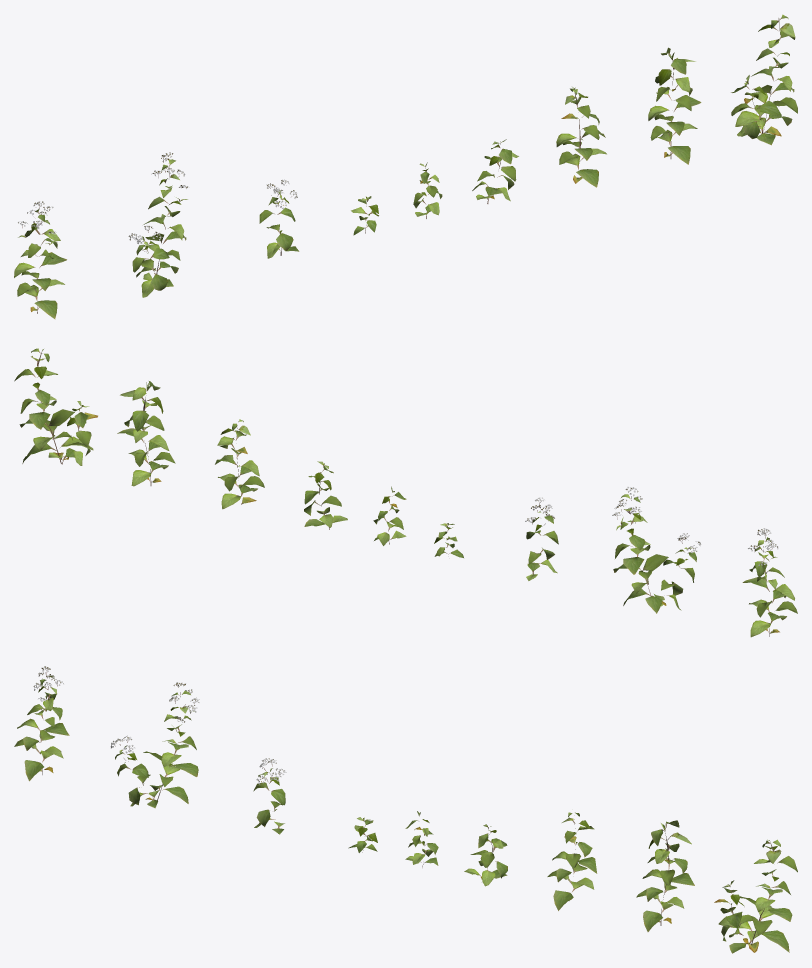
Rendered from shrub_01.glb.
3 renders of one model, top to bottom at view 1: azimuth 30°, elevation 25°; view 2: azimuth 150°, elevation 25°; view 3: azimuth 330°, elevation 25°, orthographic. The views are drawn at different scales.
Parts seen in each view (by area): view 1: shrub_01_a; view 2: shrub_01_a; view 3: shrub_01_a.
Part boxes in pixels (x1,y1,x2,y2): shrub_01_a: (14, 14, 797, 319); shrub_01_a: (14, 348, 797, 637); shrub_01_a: (14, 666, 797, 953).
Size of the model in its own units: 2.59 by 0.3956 by 0.2175.
1 material, 1 textured.
